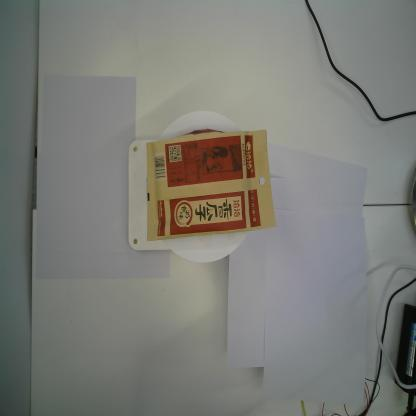Dried Food: (144, 128, 278, 243)
